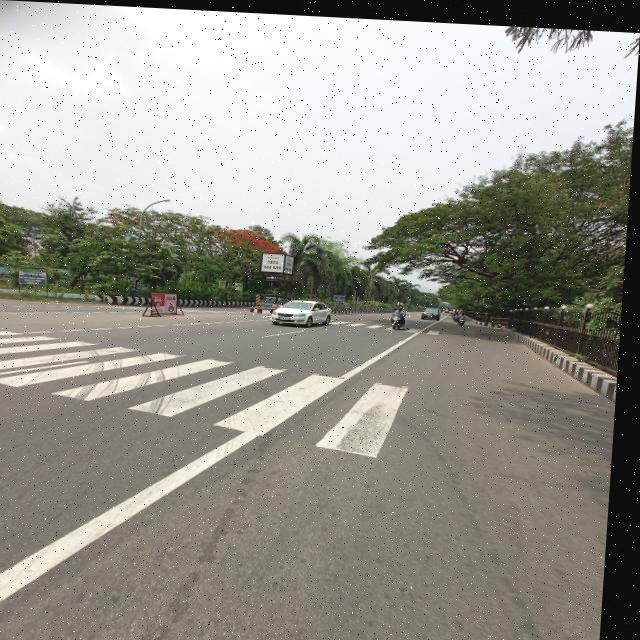bike: (390, 307, 415, 327)
car: (267, 293, 339, 325)
